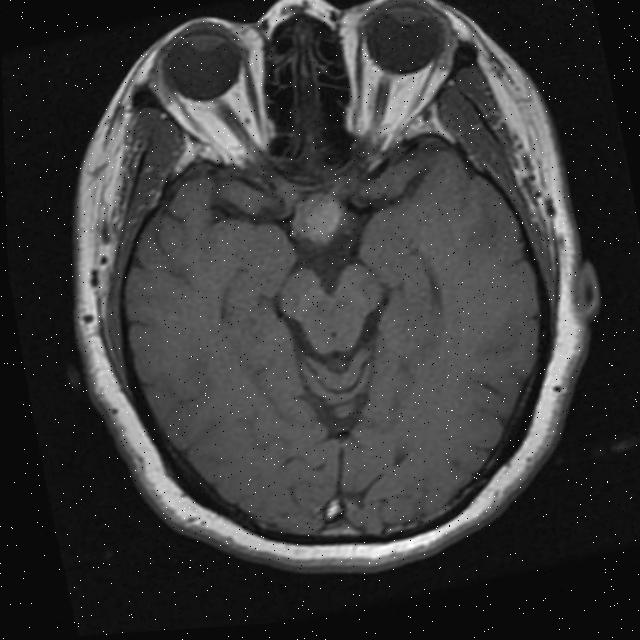Pituitary: (286, 185, 348, 250)
